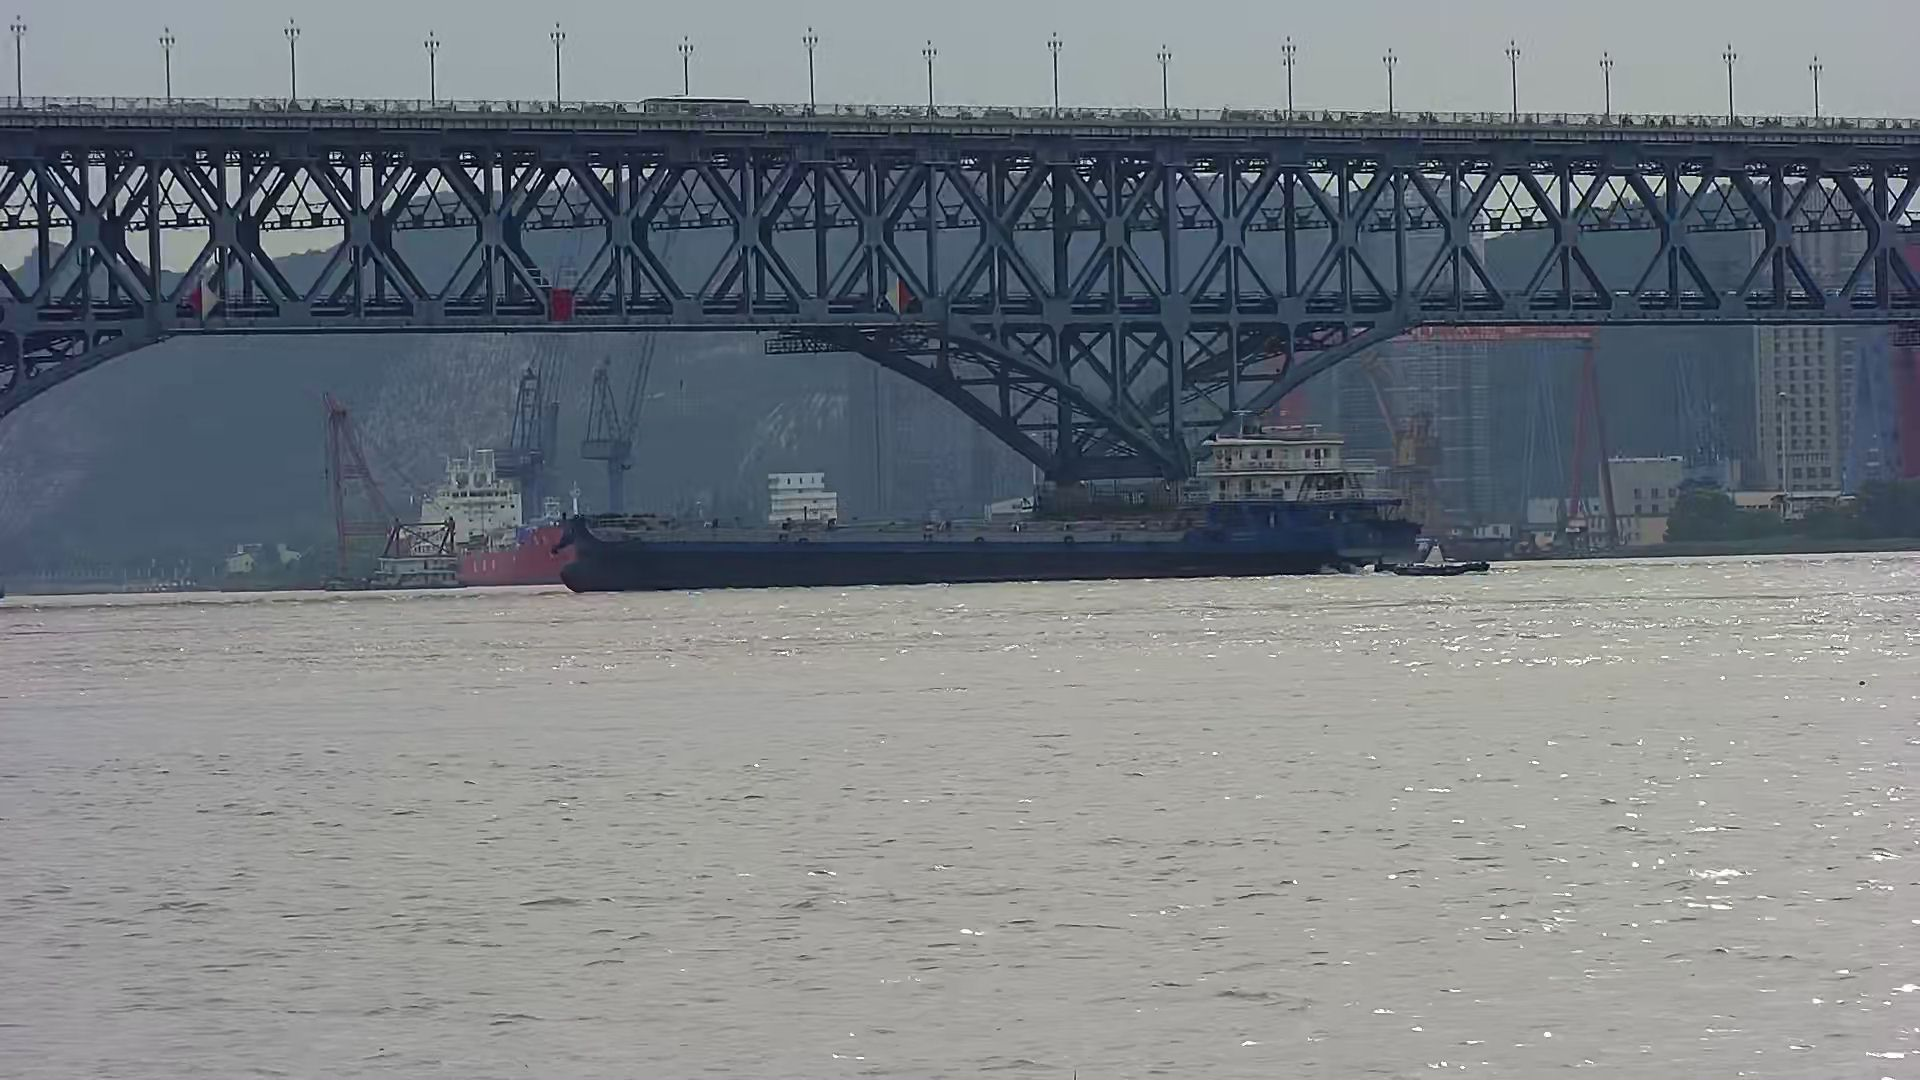boat: (1389, 535, 1505, 584)
bridge: (3, 3, 1920, 513)
ship: (541, 415, 1410, 584)
